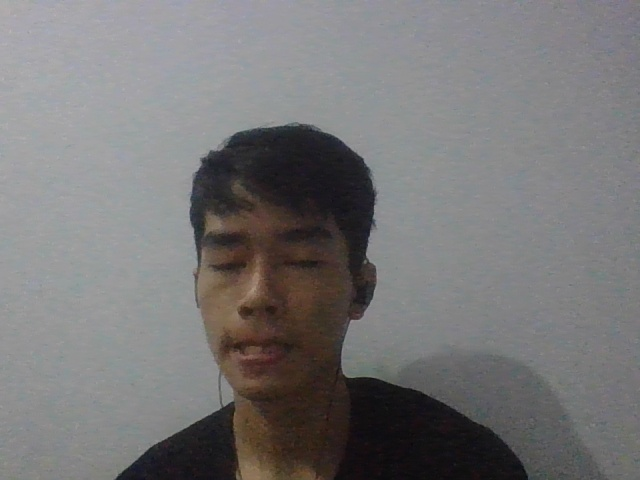real: (160, 92, 391, 420)
